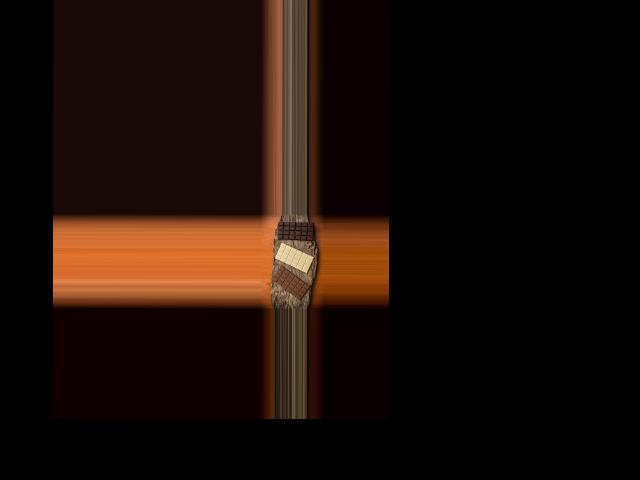chocolate: (277, 221, 314, 240)
